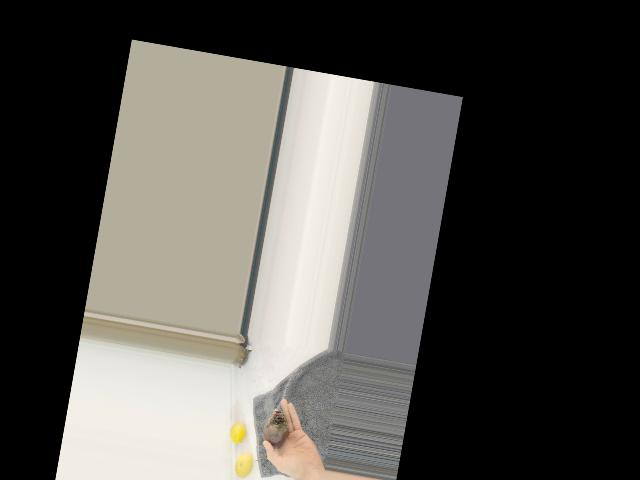beet: (255, 408, 291, 466)
